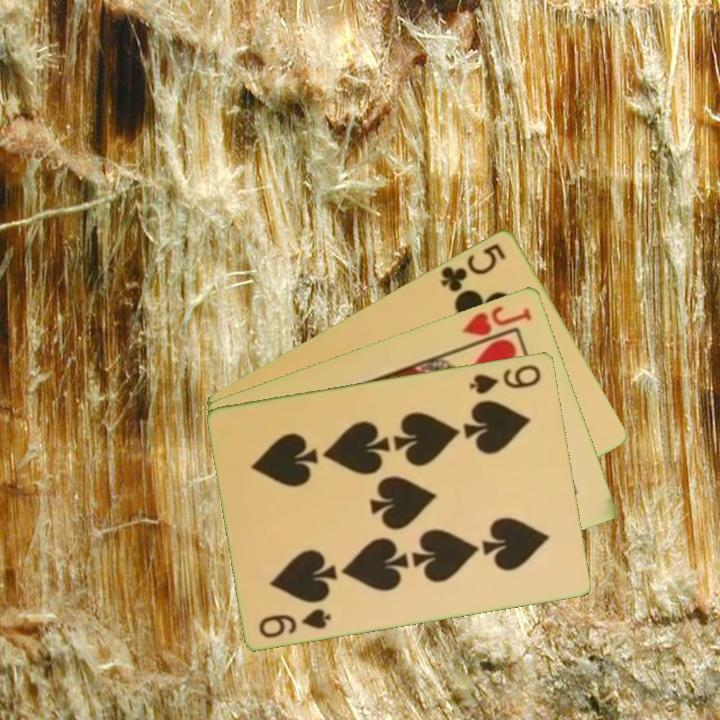5c: (437, 239, 509, 295)
9s: (466, 360, 545, 397), (256, 604, 335, 641)
Jh: (458, 302, 535, 338)
